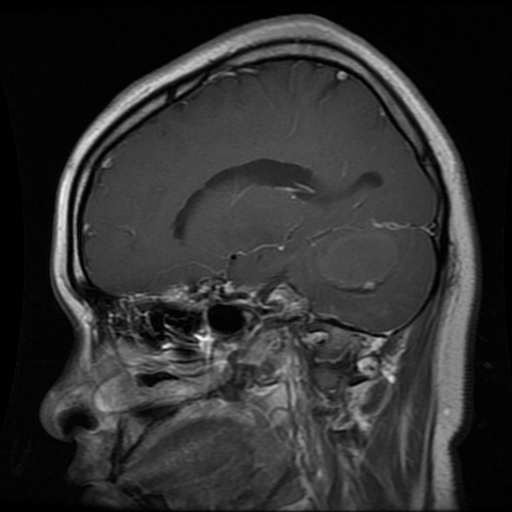glioma: (316, 227, 402, 294)
